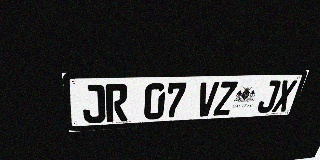0: (144, 83, 166, 120)
7: (164, 82, 187, 119)
J: (80, 84, 106, 124), (256, 80, 282, 113)
R: (105, 84, 128, 122)
V: (195, 82, 220, 117)
X: (272, 80, 298, 112)
Z: (213, 81, 238, 116)
